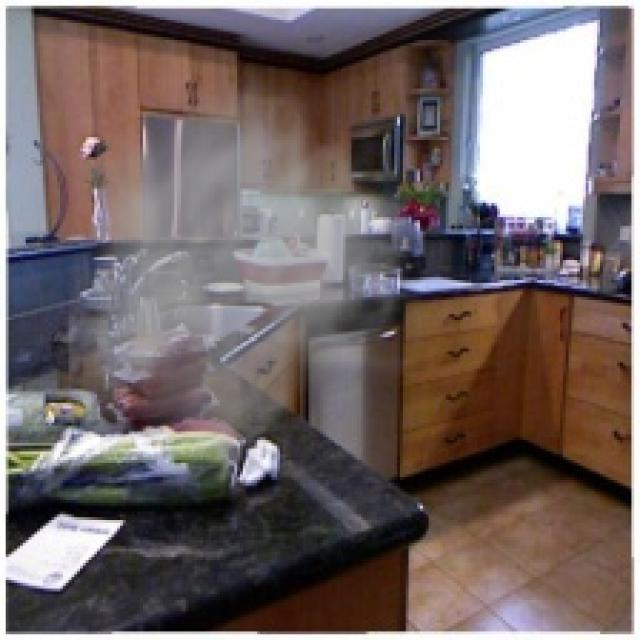Smoke: (68, 62, 446, 478)
